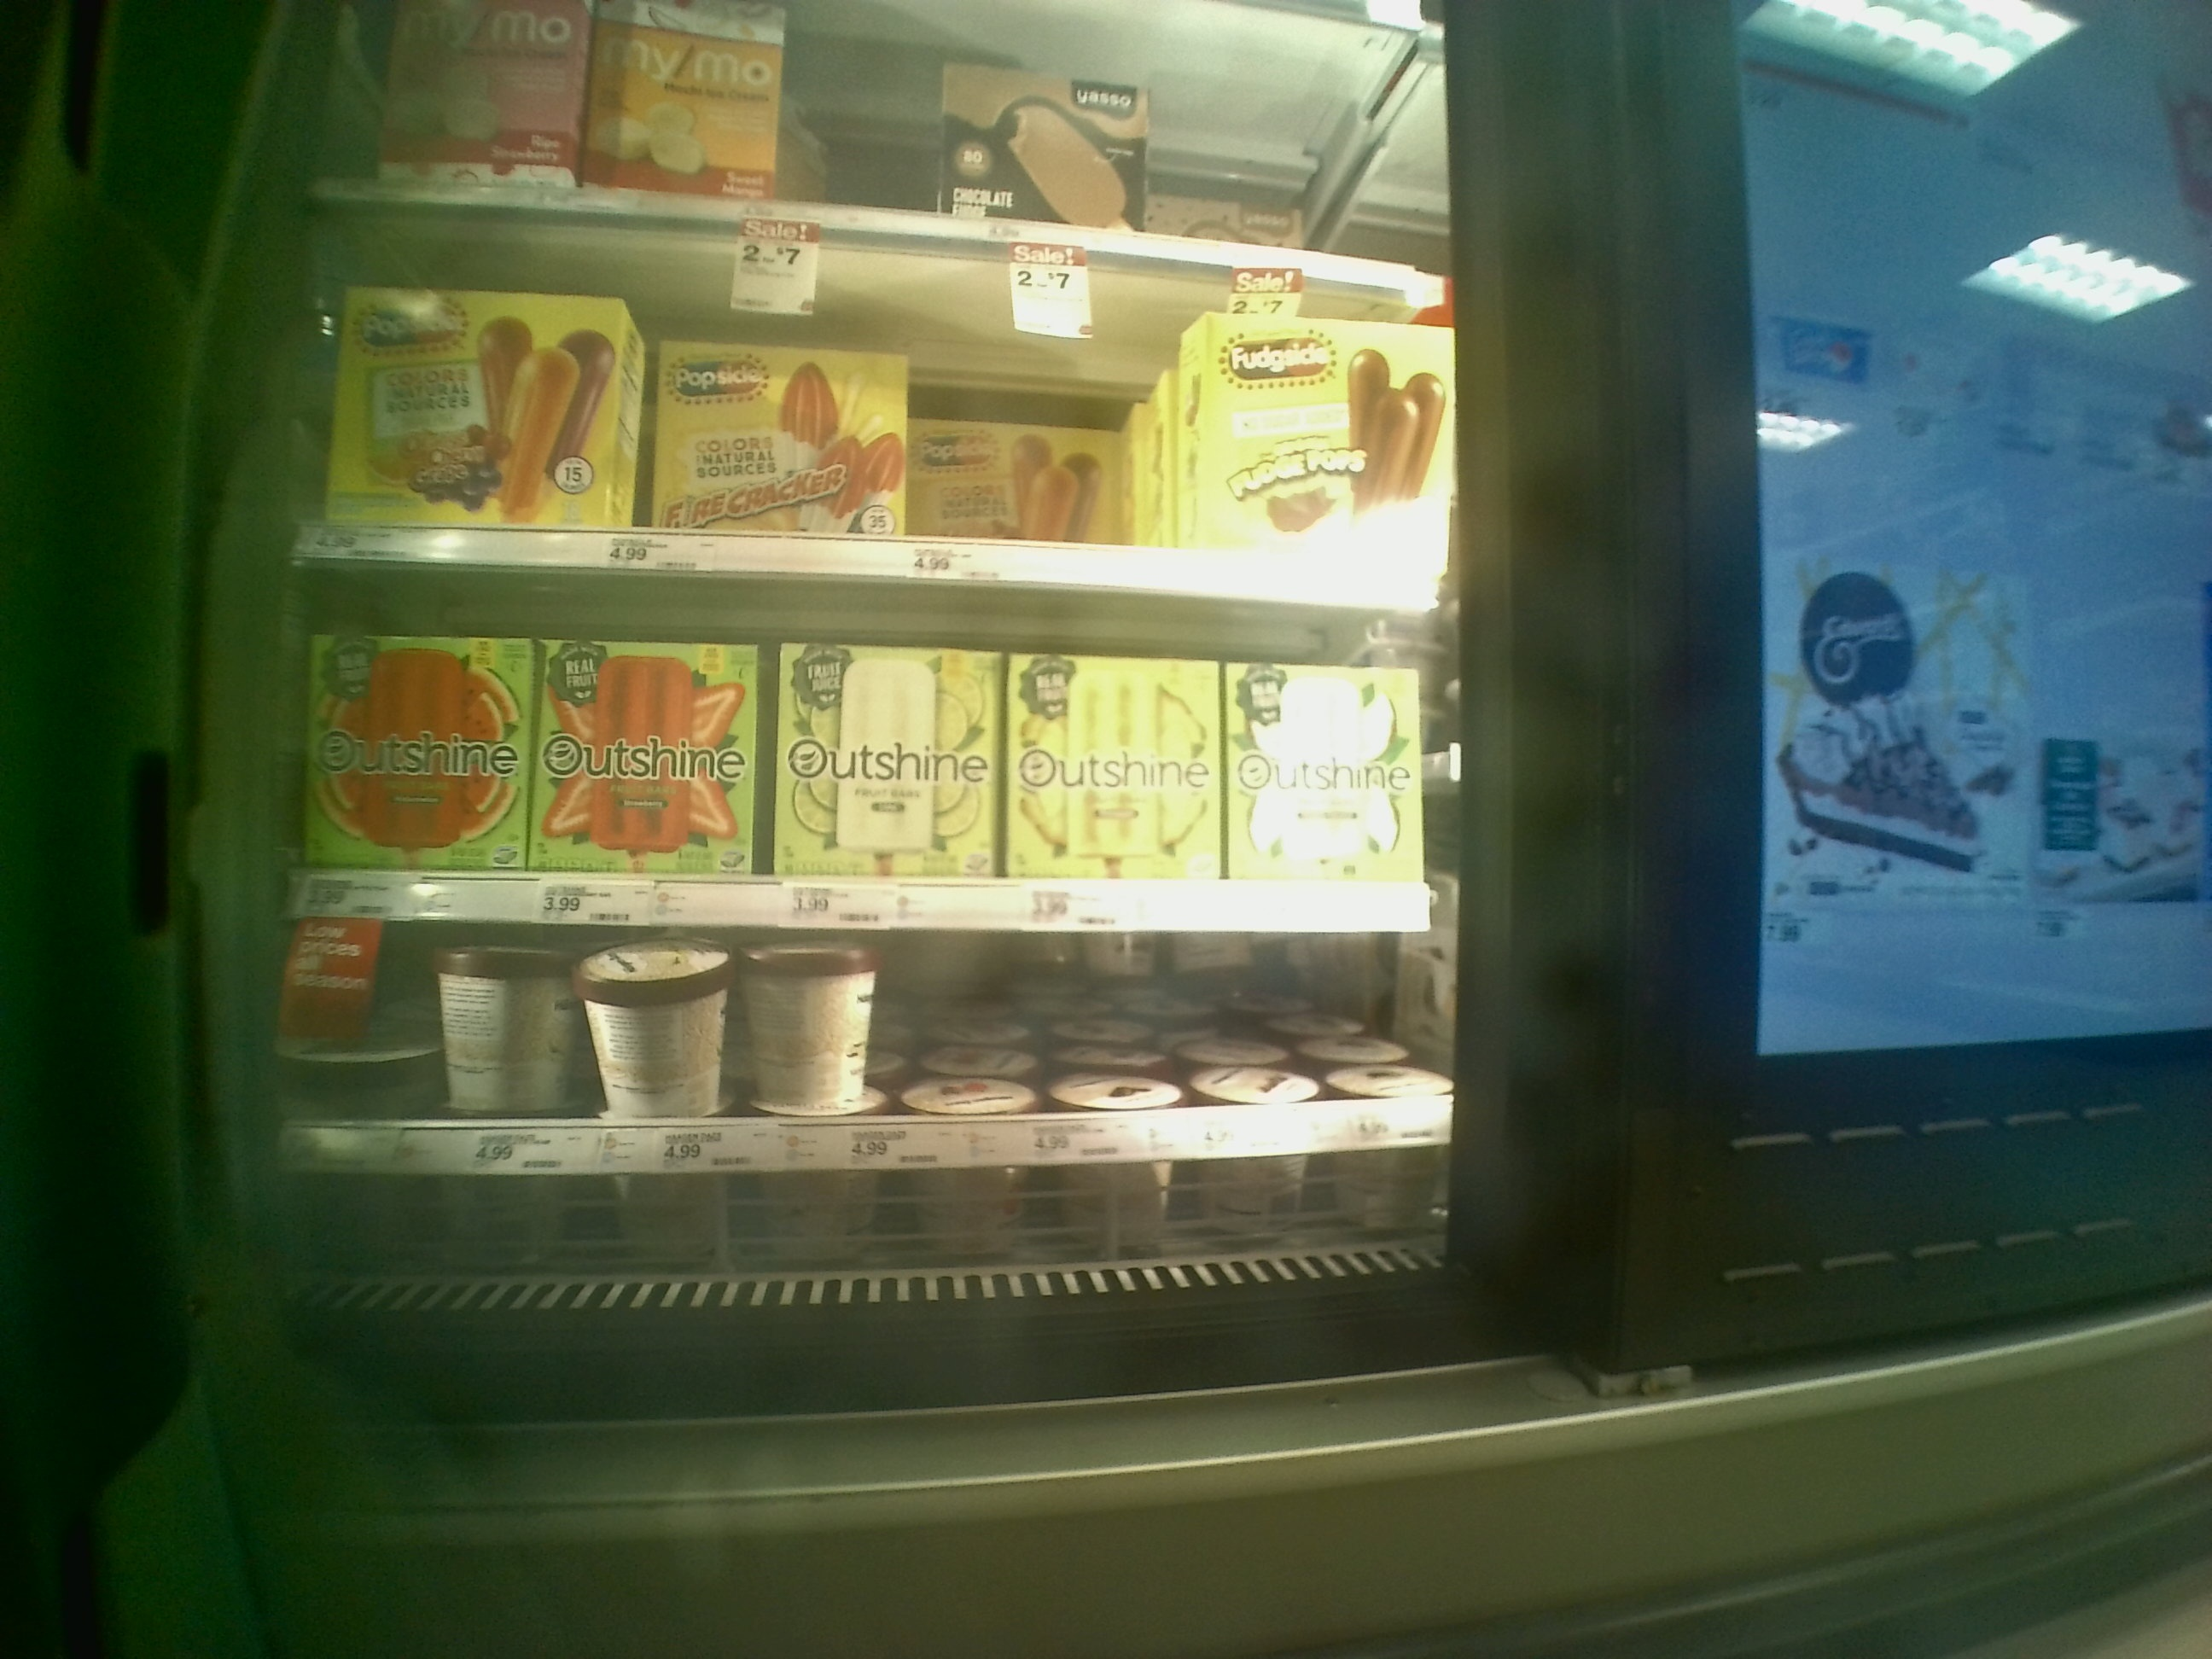ice-cream-shelf: (289, 199, 1451, 596), (286, 573, 1458, 932), (270, 922, 1458, 1239)
